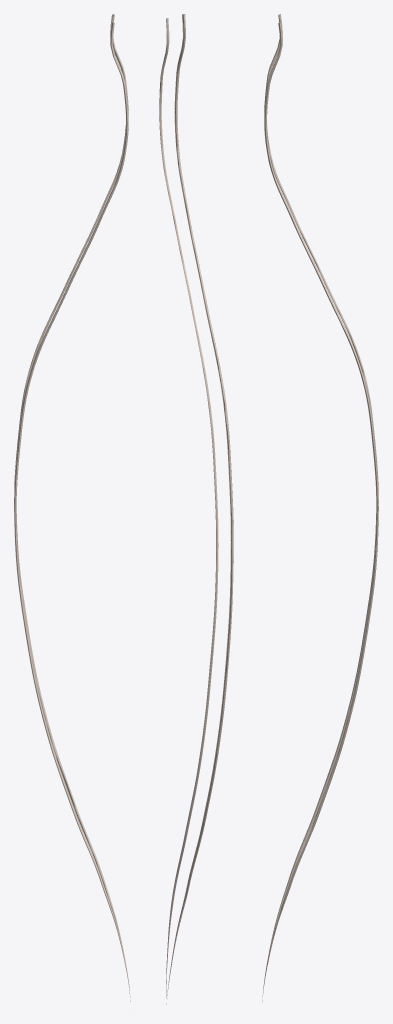
File: nervoso-posterolateral-tract.glb
3 renders of one model, left to right at view 1: azimuth 90°, elevation 25°; view 2: azimuth 210°, elevation 25°; view 3: azimuth 270°, elevation 25°, orthographic.
Parts seen in each view (by area): view 1: Posterolateral tract; view 2: Posterolateral tract; view 3: Posterolateral tract.
Boxes of the visible parts, left/top/right/bottom form: Posterolateral tract: left=14, top=14, right=130, bottom=1001; Posterolateral tract: left=159, top=14, right=233, bottom=1004; Posterolateral tract: left=262, top=14, right=378, bottom=1001.
Size of the model in its own units: 0.00985 by 0.4903 by 0.0523.
